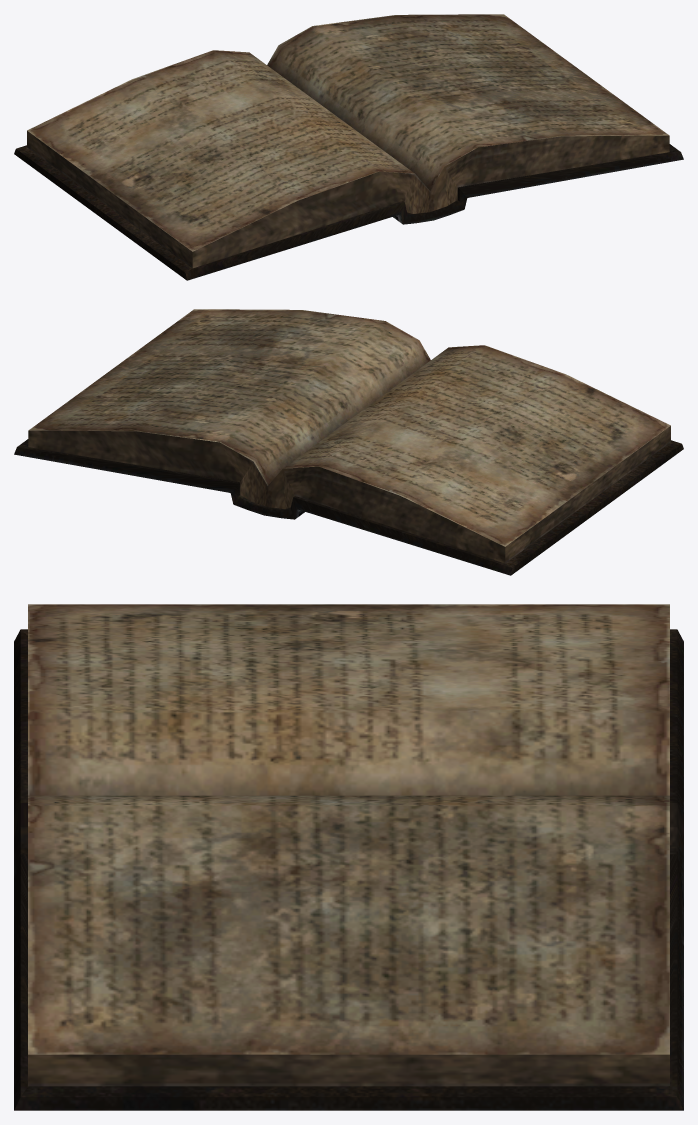
Rendered from tome_open01.dae.
The picture shows the model from 3 angles, top to bottom: view 1: azimuth 30°, elevation 25°; view 2: azimuth 150°, elevation 25°; view 3: azimuth 270°, elevation 25°; orthographic projection. The views are drawn at different scales.
Visible parts, largest first — view 1: pCube1; view 2: pCube1; view 3: pCube1.
Boxes of the visible parts, x1=… form: pCube1: x1=14, y1=14, x2=683, y2=280; pCube1: x1=14, y1=309, x2=683, y2=575; pCube1: x1=14, y1=604, x2=683, y2=1110.
Size of the model in its own units: 0.7474 by 0.0845 by 0.4511.
